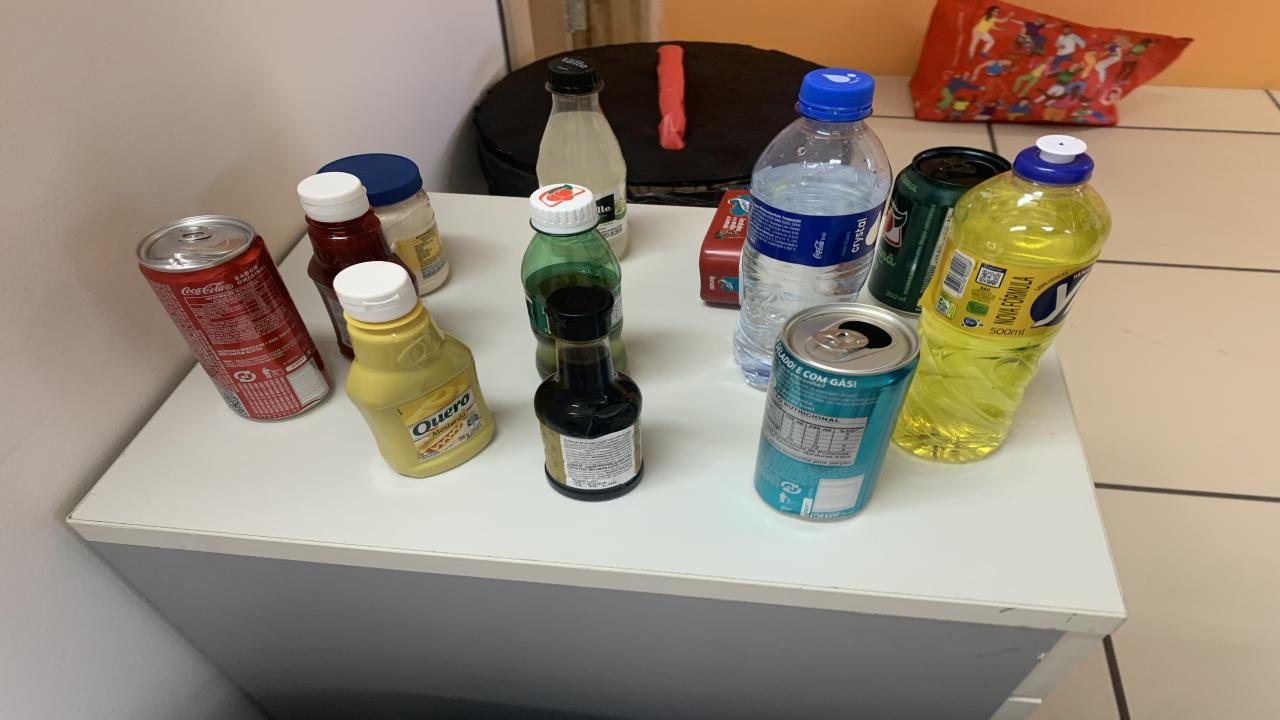Coke-Drinks: (135, 216, 330, 420)
Detergent-Cleanup_Items: (895, 135, 1110, 463)
English_Sauce-Pantry_Items: (535, 285, 642, 501)
Guarana-Drinks: (520, 184, 628, 379)
Guarana_Can-Drinks: (868, 146, 1010, 317)
Ketchup-Pantry_Items: (298, 171, 405, 358)
Mayonnaise-Pantry_Items: (320, 154, 450, 294)
Mustard-Pantry_Items: (332, 262, 495, 478)
Soda-Drinks: (535, 56, 628, 257)
Tea-Drinks: (755, 302, 920, 519)
Tuna_Can-Pantry_Items: (700, 189, 750, 304)
Water_Bottle-Drinks: (735, 68, 892, 390)
